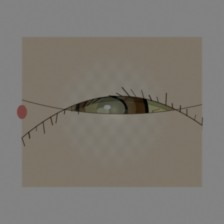corneal_ulcer: (73, 83, 138, 135)
